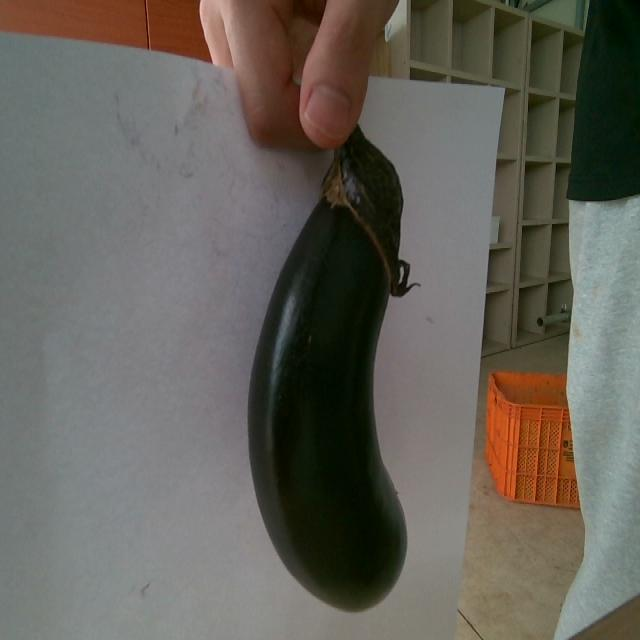Egg plant: (248, 128, 415, 609)
